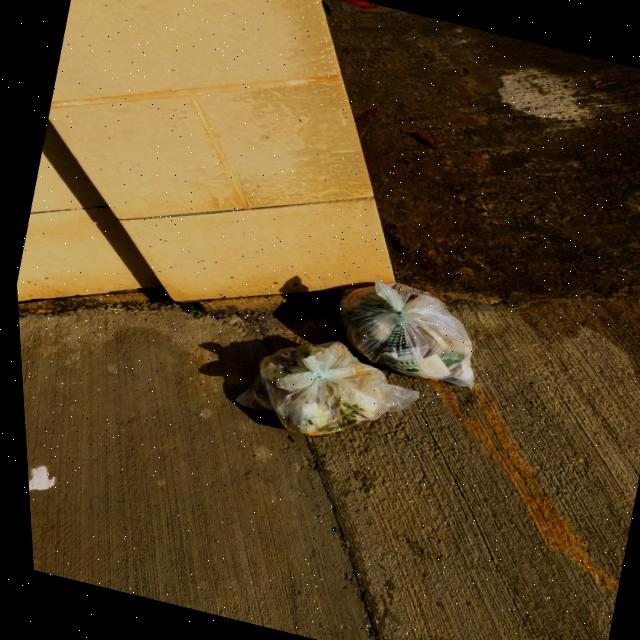Organic Waste -White Bag-: (215, 312, 435, 467), (320, 262, 495, 398)
